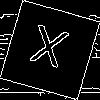X: (25, 24, 71, 77)
